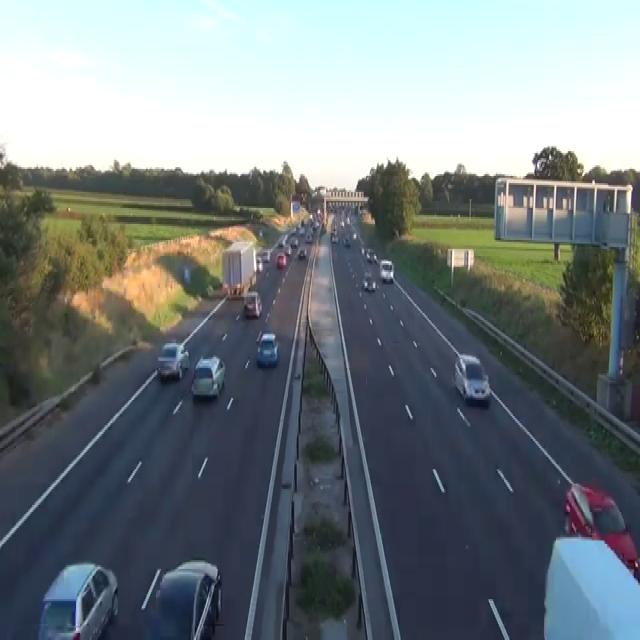Car: (563, 482, 639, 581), (139, 556, 222, 638), (37, 562, 118, 638), (452, 352, 490, 404), (190, 354, 225, 398), (156, 340, 189, 380), (256, 331, 278, 366), (243, 290, 262, 318), (379, 260, 393, 282), (361, 244, 377, 263), (362, 272, 375, 292), (276, 252, 286, 266), (256, 256, 263, 272), (366, 247, 374, 261), (261, 249, 270, 261), (297, 247, 306, 258), (283, 244, 291, 256), (277, 235, 285, 247), (331, 229, 338, 242), (342, 235, 350, 245), (290, 237, 298, 247), (312, 221, 320, 231), (305, 231, 312, 242), (300, 192, 307, 203), (298, 226, 305, 234), (360, 245, 365, 256), (340, 218, 344, 228), (329, 202, 334, 210), (373, 253, 377, 263), (346, 215, 350, 224), (258, 228, 262, 236), (352, 231, 356, 238)
Truck: (221, 240, 257, 299)
